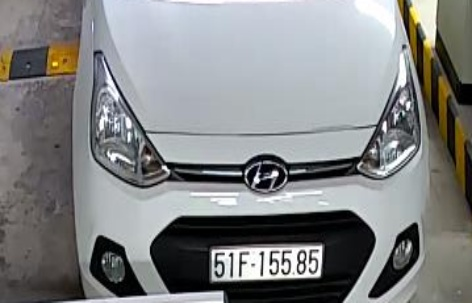plate: (202, 235, 328, 281)
